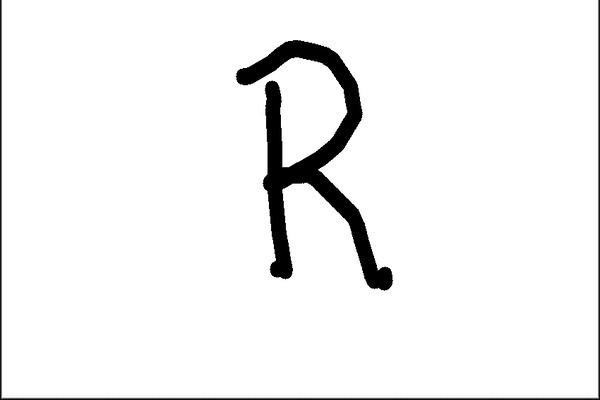R: (224, 30, 408, 295)
